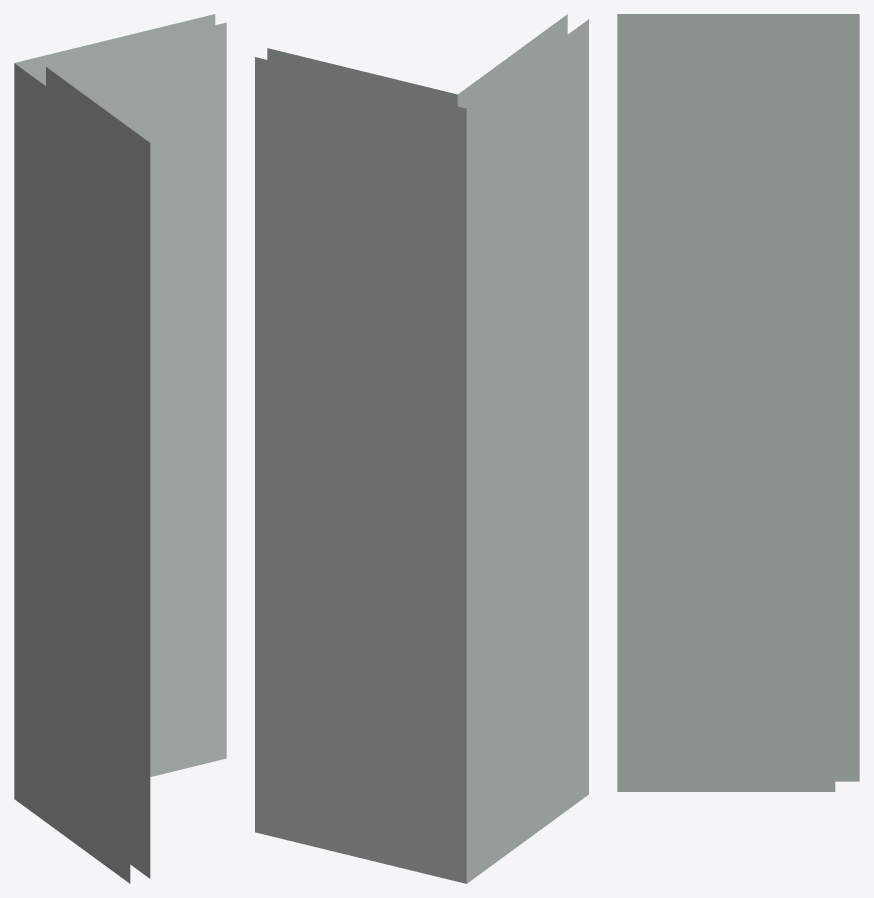
Rendered from SM_Wall_Outer_Corner_A_200.fbx.
3 views of the same model, side by side, from view 1: azimuth 30°, elevation 25°; view 2: azimuth 150°, elevation 25°; view 3: azimuth 270°, elevation 25° (orthographic). The views are drawn at different scales.
Visible parts, largest first — view 1: SM_Wall_Outer_Corner_A_200; view 2: SM_Wall_Outer_Corner_A_200; view 3: SM_Wall_Outer_Corner_A_200.
Part boxes in pixels (x1,y1,x2,y2): SM_Wall_Outer_Corner_A_200: (14, 14, 226, 883); SM_Wall_Outer_Corner_A_200: (255, 14, 588, 883); SM_Wall_Outer_Corner_A_200: (617, 14, 859, 791).
Bounding box in the file's own units: 200 × 200 × 700.
4 materials, 4 textured.
